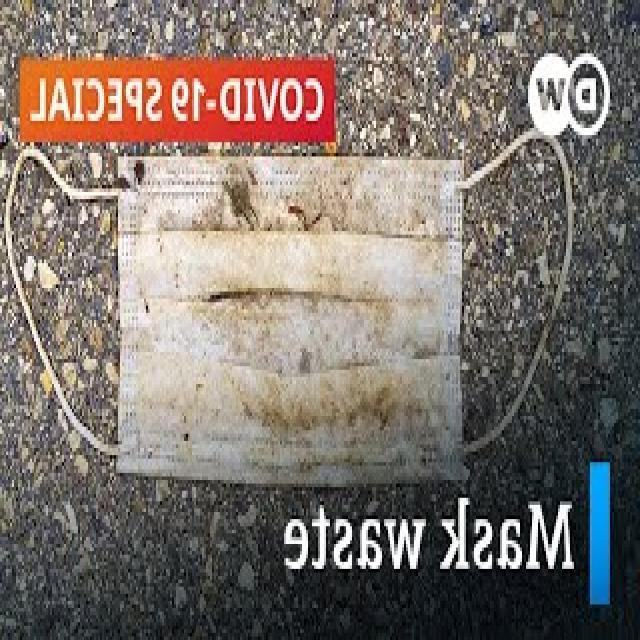face mask: (0, 132, 576, 484)
